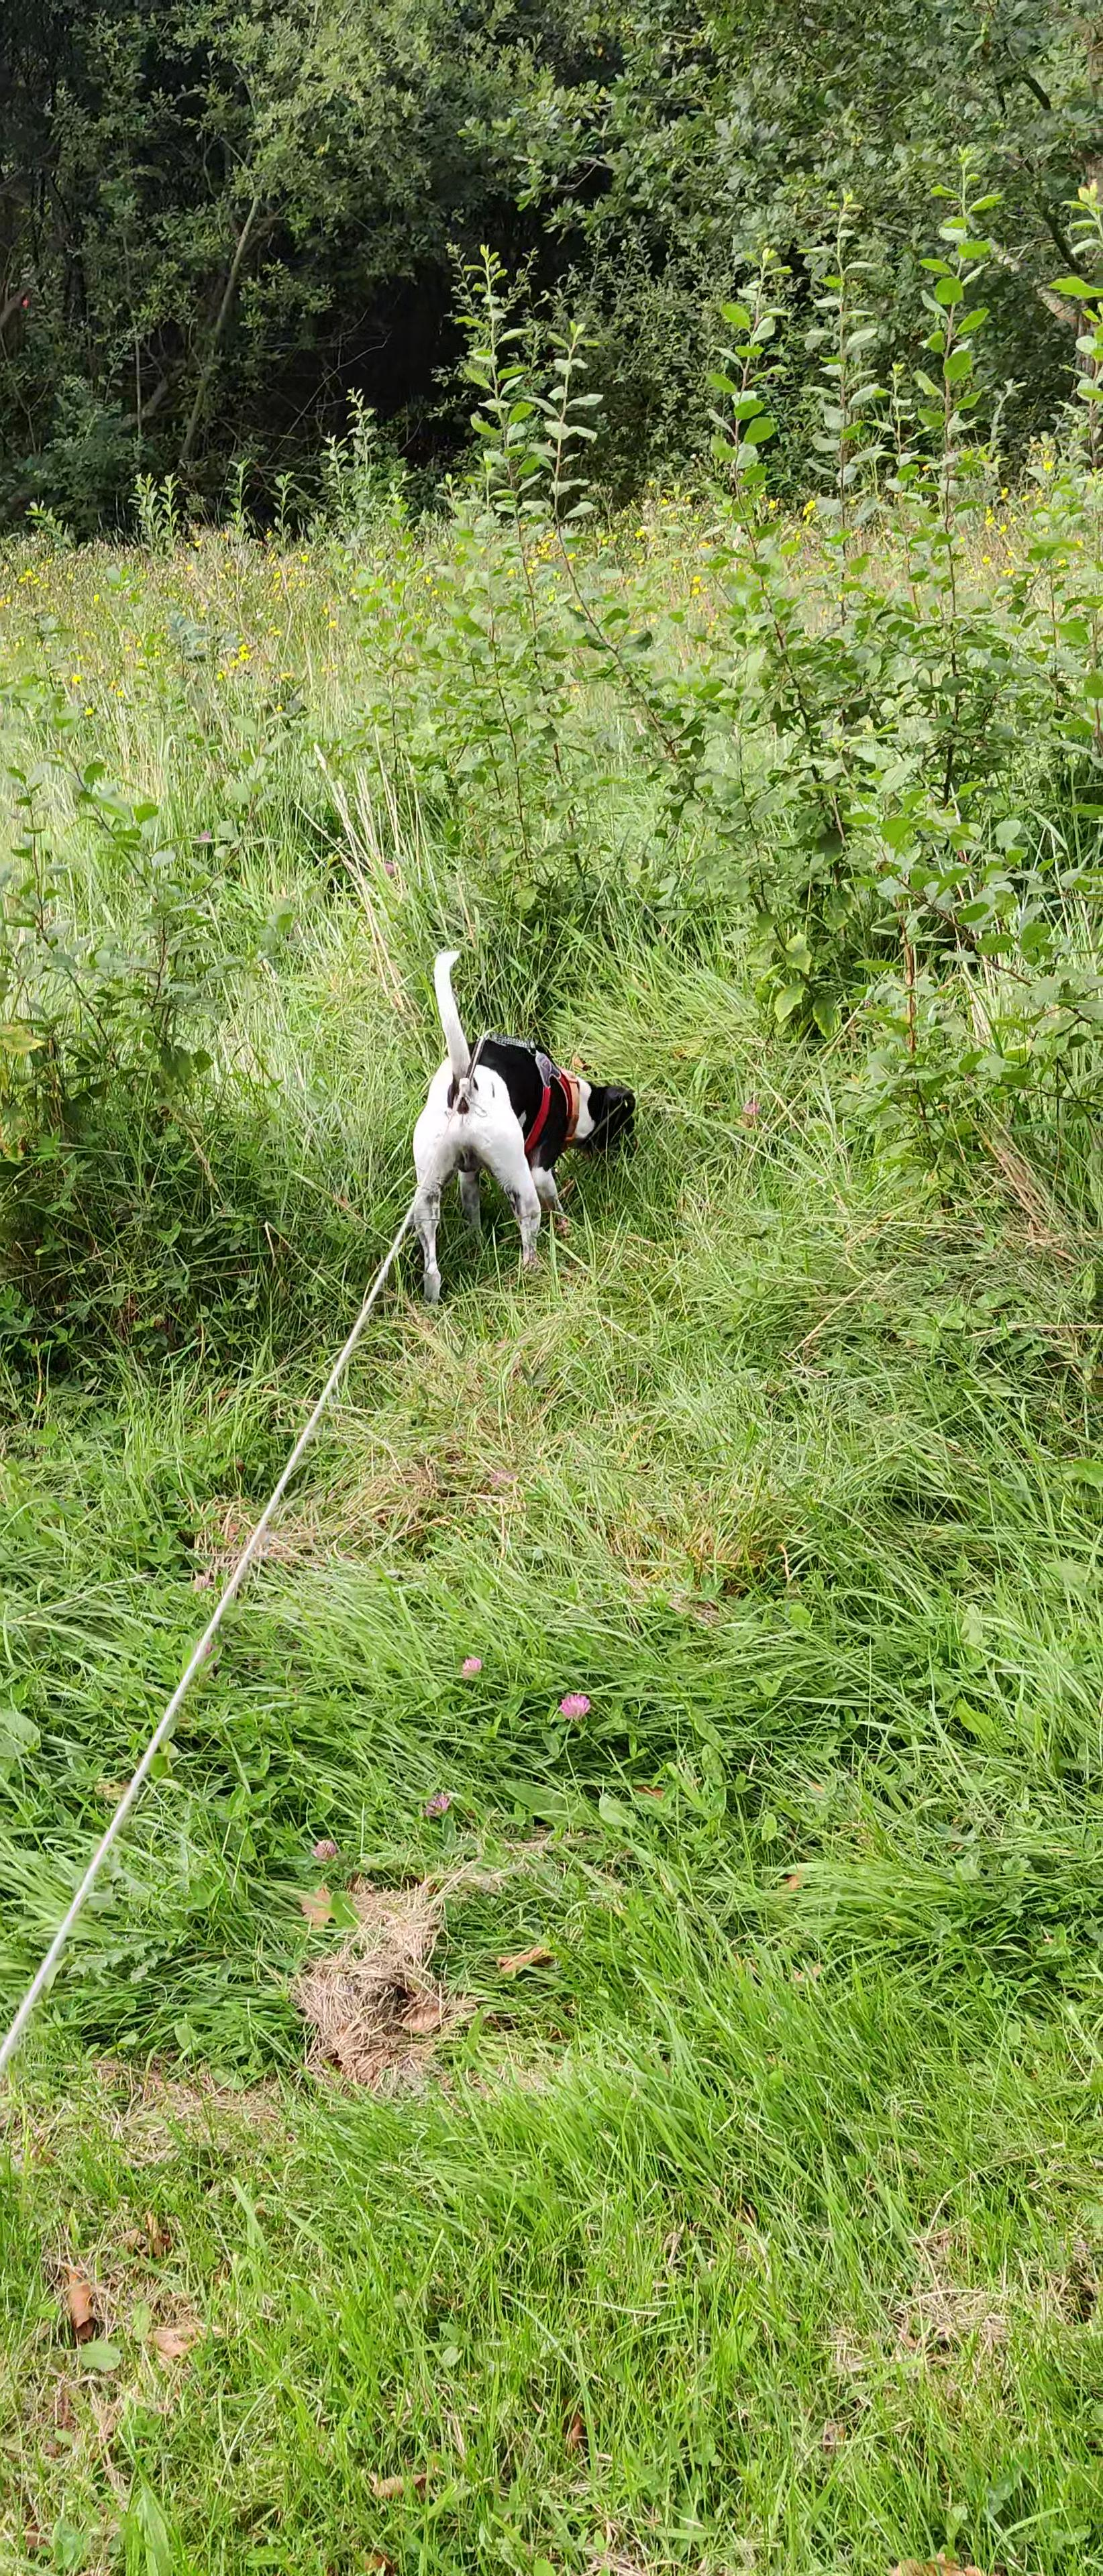Dog: (355, 930, 628, 1309)
